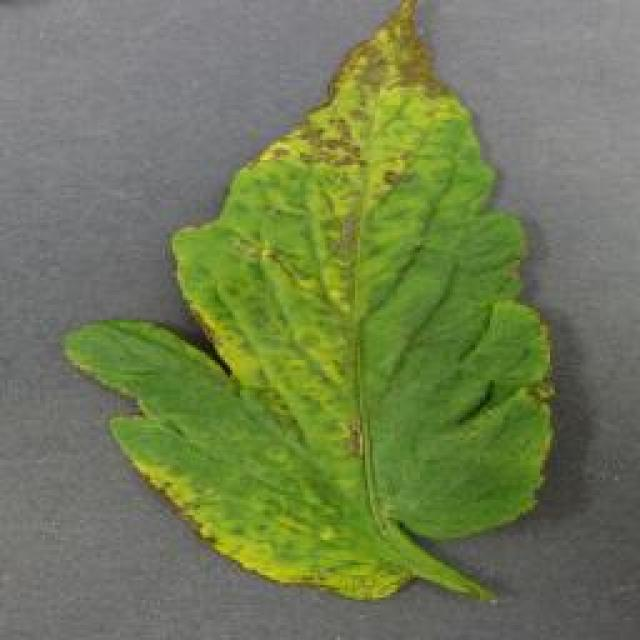Tomato___Bacterial_spot: (61, 0, 556, 606)
